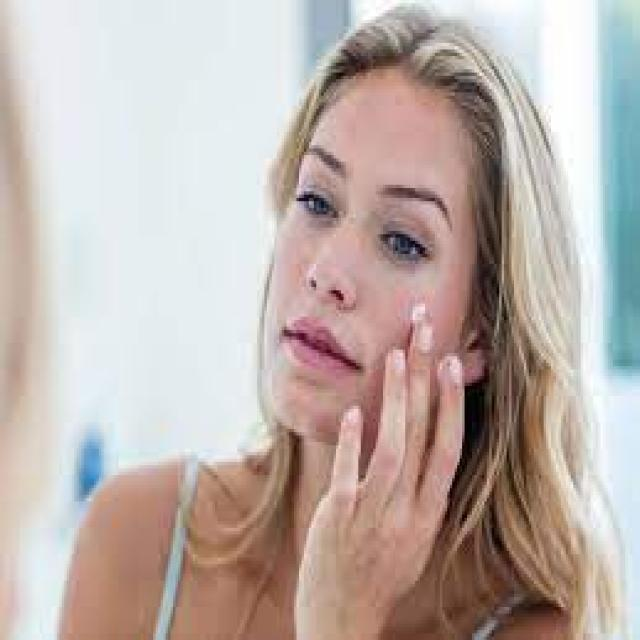oily: (329, 108, 387, 326), (335, 262, 462, 340), (278, 222, 353, 322)
